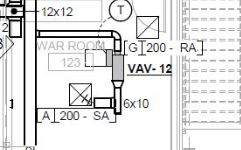VAV: (106, 48, 125, 90)
